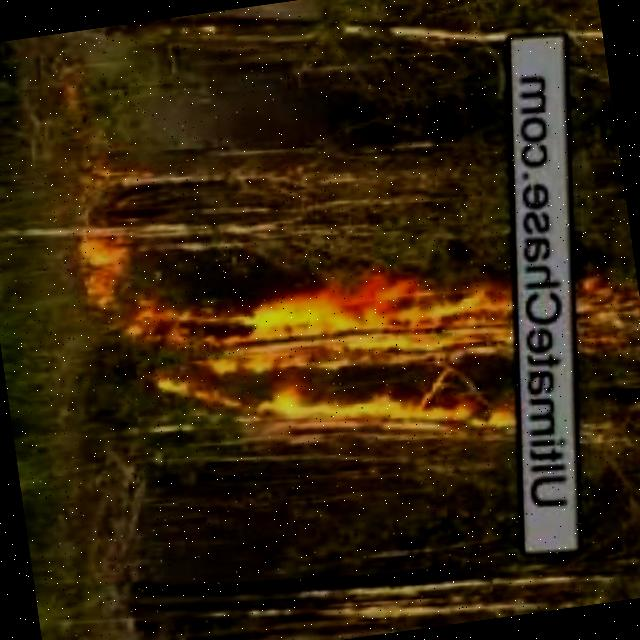fire: (132, 255, 542, 489), (66, 230, 146, 358), (568, 280, 640, 353)
